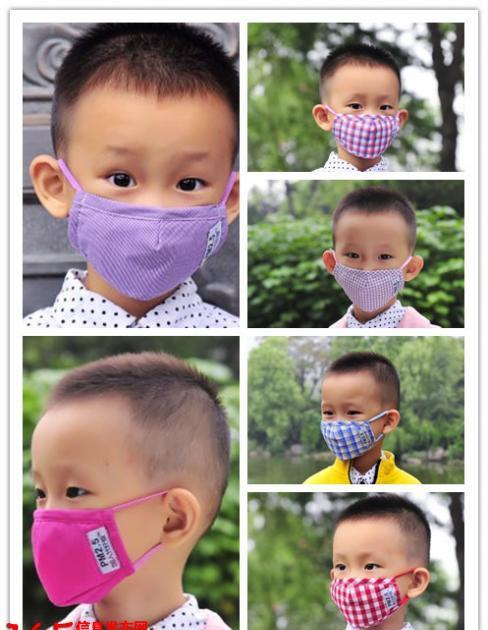OK: (72, 140, 233, 301), (24, 460, 169, 605), (329, 547, 408, 626), (336, 241, 408, 313), (330, 91, 397, 158), (316, 400, 377, 461)
